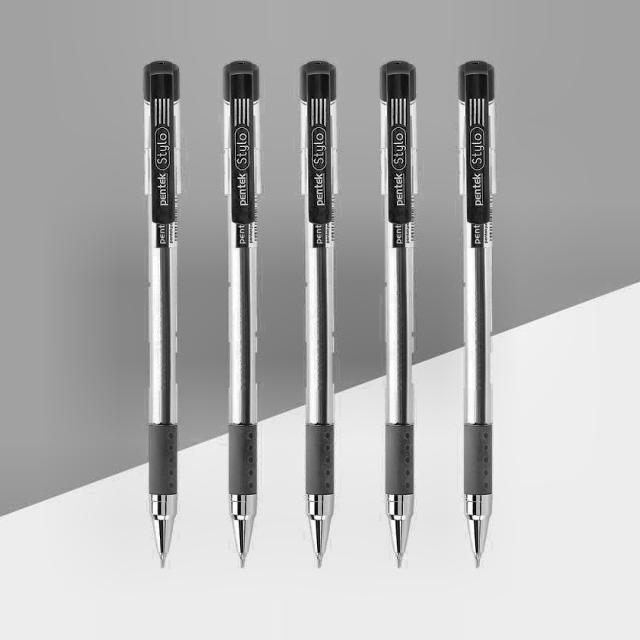Pen: (213, 61, 498, 576), (137, 58, 197, 593)
